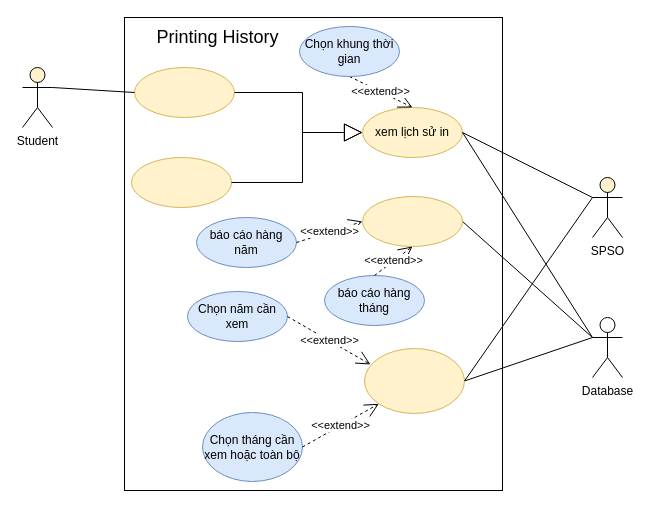
Some shapes in this 650 by 508 pixel diagram are drawn without their labels. The shapes that lost their labels are listed below. From the top down, each one's centre as x and y in pixels, then its label:
At pixel 184 92: "xem lịch sử in của sinh viên".
At pixel 181 182: "xem lịch sử in của máy in".
At pixel 412 221: "Tạo báo cáo định kỳ".
At pixel 414 381: "xem báo cáo định kì".
